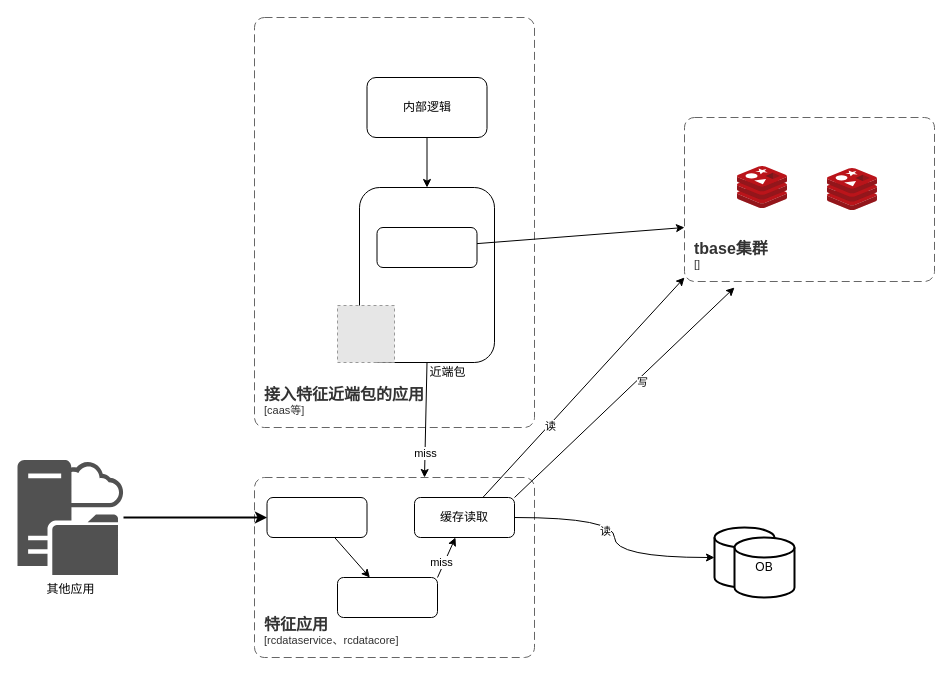
Some shapes in this 952 by 675 pixel diagram are drawn without their labels. Grey dashed boxes stand in for pictures. The centre of each missing label's shape, as x and y in pixels:
"本地缓存" belongs at point 387,597.
"查询标签" belongs at point 316,517.
"读取Tbase" belongs at point 426,247.
